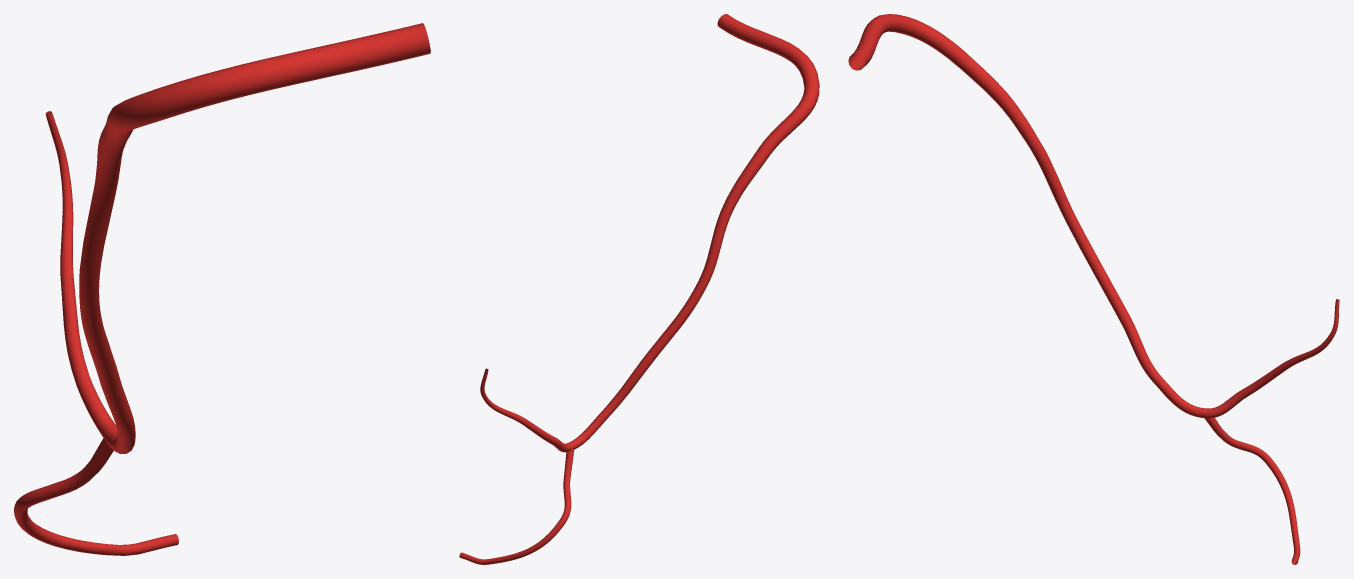
The model's file is circulatorio-posterior-temporal-branch-r.glb.
3 views of the same model, side by side, from view 1: azimuth 30°, elevation 25°; view 2: azimuth 150°, elevation 25°; view 3: azimuth 270°, elevation 25° (orthographic). The views are drawn at different scales.
Visible parts, largest first — view 1: Posterior temporal branch.r; view 2: Posterior temporal branch.r; view 3: Posterior temporal branch.r.
Part boxes in pixels (left/top/right/bottom): Posterior temporal branch.r: left=14, top=23, right=430, bottom=555; Posterior temporal branch.r: left=459, top=14, right=819, bottom=564; Posterior temporal branch.r: left=848, top=14, right=1339, bottom=564.
Bounding box in the file's own units: 0.0195 × 0.0409 × 0.0384.
